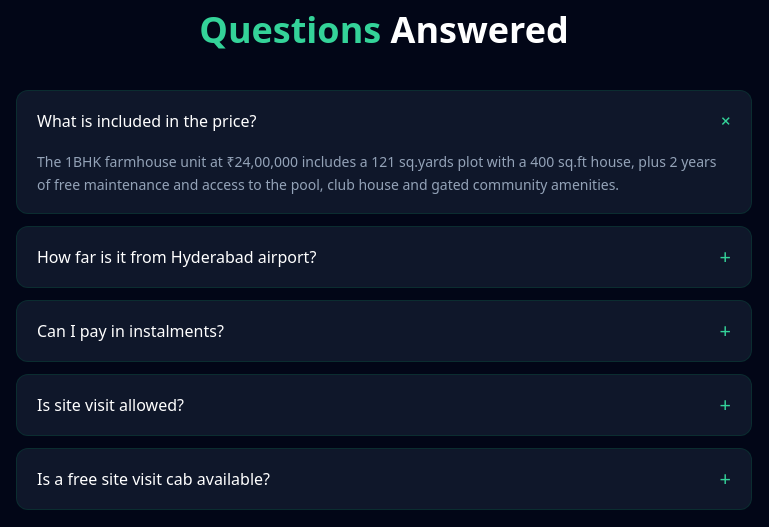
Test: Faq › reveals the answer when a question is clicked
Click the button "How far is it from Hyderabad airport? +": coordinates (177, 256) x1=17 y1=226 x2=751 y2=286
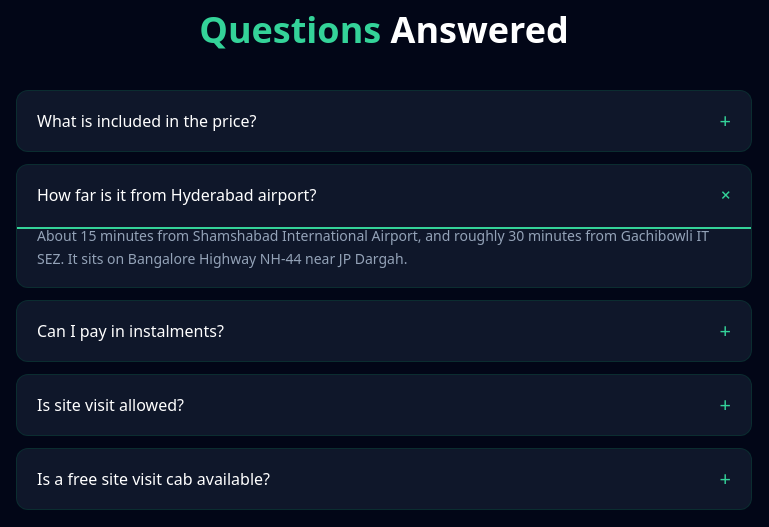
Result: the button "How far is it from Hyderabad airport? +" is expanded at x1=17 y1=165 x2=751 y2=225
